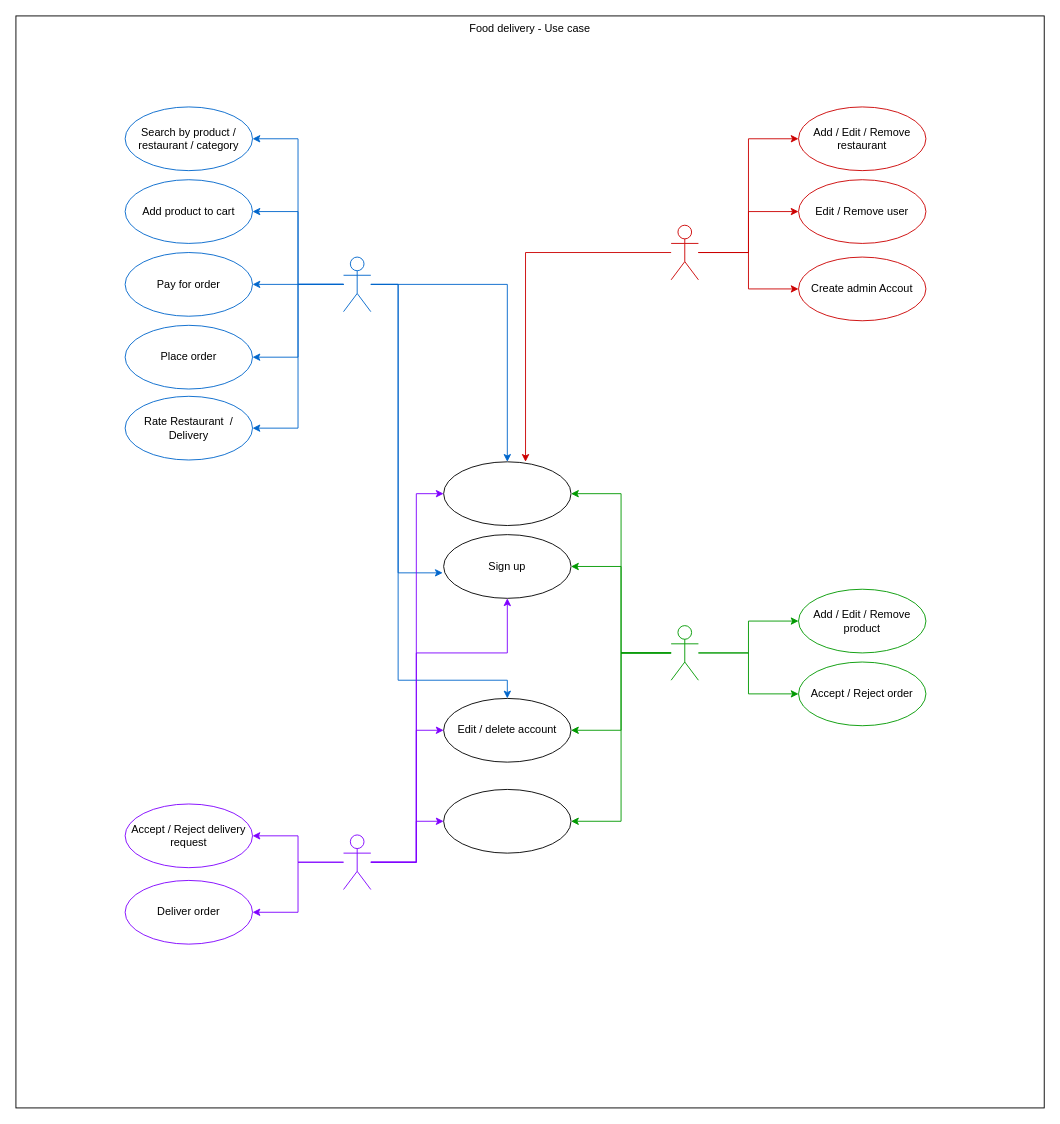
The diagram is 1060 pixels wide and 1124 high, and some of its shapes have lost their labels. Here are the shapes that lost their labels. From the top down, the box of each, then its label:
(670, 224, 698, 280): Admin
(343, 256, 371, 312): Customer
(443, 461, 571, 526): Sign in
(670, 625, 698, 680): Restaurant
(443, 789, 571, 853): Receive payment
(343, 834, 371, 890): Delivery
